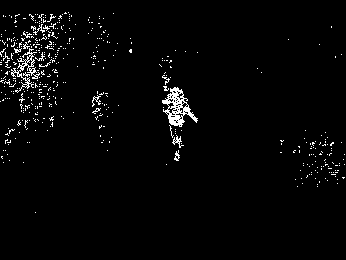person: (162, 84, 198, 163)
